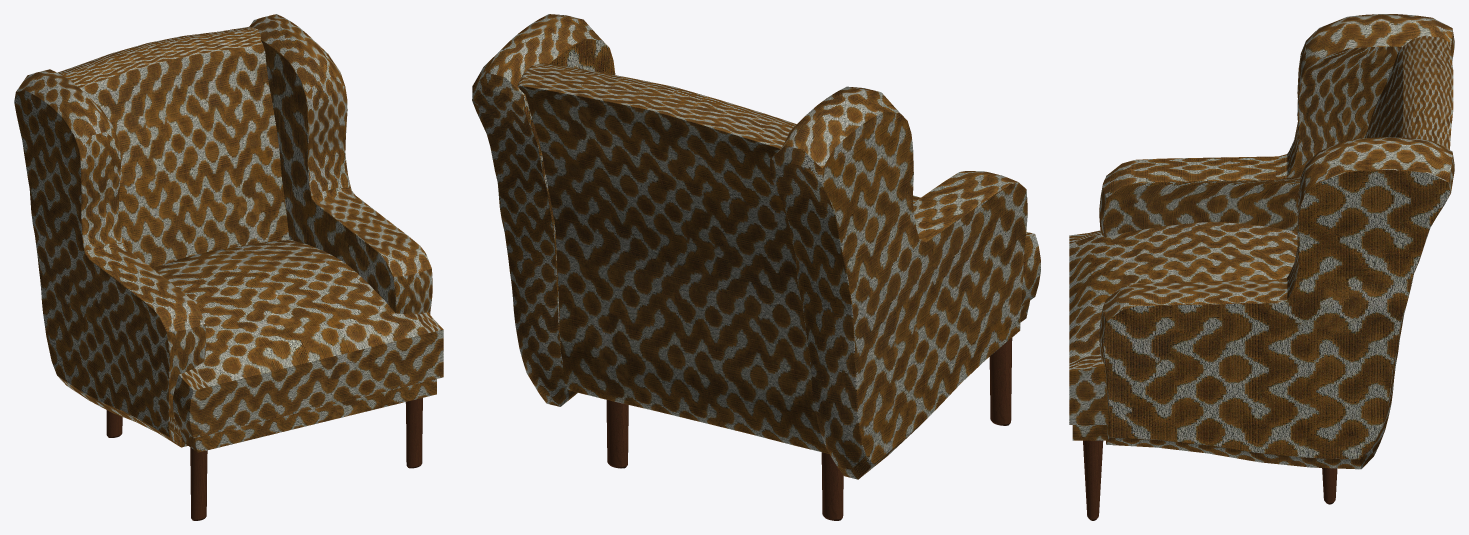
Rendered from chair.fbx.
The picture shows the model from 3 angles, left to right: view 1: azimuth 30°, elevation 25°; view 2: azimuth 150°, elevation 25°; view 3: azimuth 270°, elevation 25°; orthographic projection. The views are drawn at different scales.
Parts seen in each view (by area): view 1: leftSide, bottomPart, backRest, rightSide, bottomPart2, leg2, leg1; view 2: backRest, leftSide, rightSide, leg2, leg3, leg4, bottomPart; view 3: rightSide, leftSide, bottomPart, backRest, leg1, bottomPart2, leg3.
Boxes of the visible parts, <box> form: leftSide: <box>14,69,206,447</box>; bottomPart: <box>152,240,443,438</box>; backRest: <box>57,26,289,267</box>; rightSide: <box>249,14,432,314</box>; bottomPart2: <box>180,379,436,452</box>; leg2: <box>190,447,207,520</box>; leg1: <box>405,398,422,468</box>; backRest: <box>517,63,828,453</box>; leftSide: <box>770,86,1027,479</box>; rightSide: <box>472,14,615,406</box>; leg2: <box>989,338,1012,425</box>; leg3: <box>606,400,628,468</box>; leg4: <box>821,452,843,520</box>; bottomPart: <box>913,195,1040,306</box>; rightSide: <box>1099,137,1454,469</box>; leftSide: <box>1099,14,1454,237</box>; bottomPart: <box>1069,222,1297,424</box>; backRest: <box>1365,35,1453,149</box>; leg1: <box>1083,440,1103,520</box>; bottomPart2: <box>1072,425,1107,440</box>; leg3: <box>1322,468,1337,504</box>.
Bounding box in the file's own units: 7.25 × 8.77 × 8.04.
